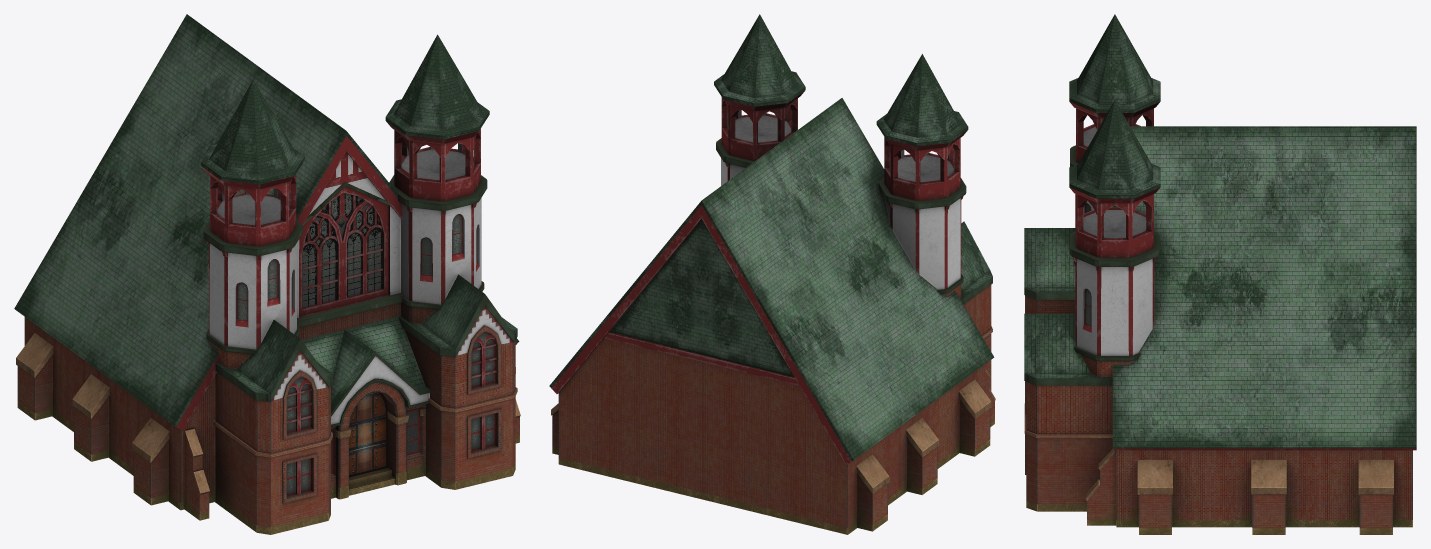
Rendered from 3rdHouse3.FBX.
The picture shows the model from 3 angles, left to right: view 1: azimuth 30°, elevation 25°; view 2: azimuth 150°, elevation 25°; view 3: azimuth 270°, elevation 25°; orthographic projection. The views are drawn at different scales.
Parts seen in each view (by area): view 1: House_3; view 2: House_3; view 3: House_3.
Boxes of the visible parts, x1=… form: House_3: x1=14, y1=14, x2=520, y2=534; House_3: x1=549, y1=14, x2=995, y2=534; House_3: x1=1024, y1=14, x2=1416, y2=534.
Bounding box in the file's own units: 777 × 842 × 758.
